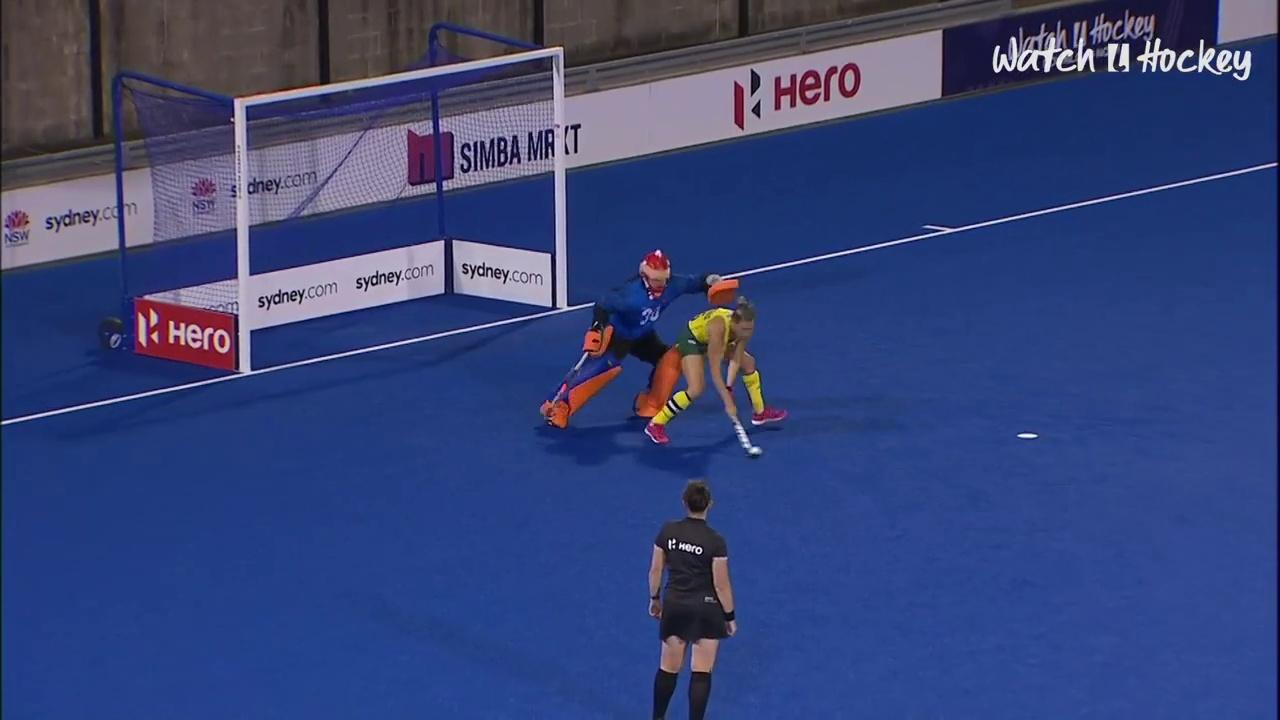ball: (744, 444, 767, 462)
